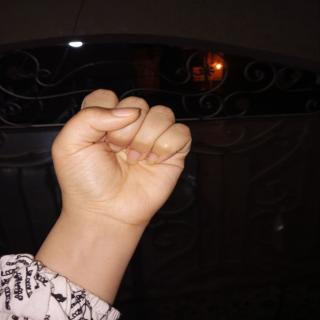SAD: (40, 80, 198, 236)
